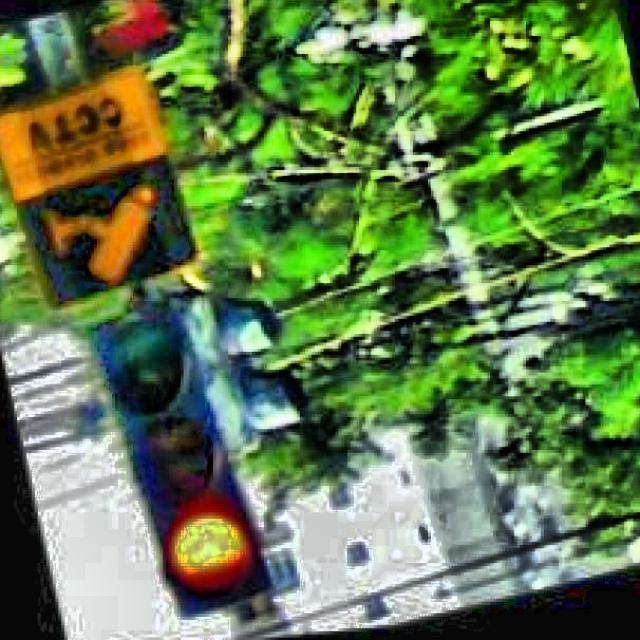red: (88, 305, 269, 611)
